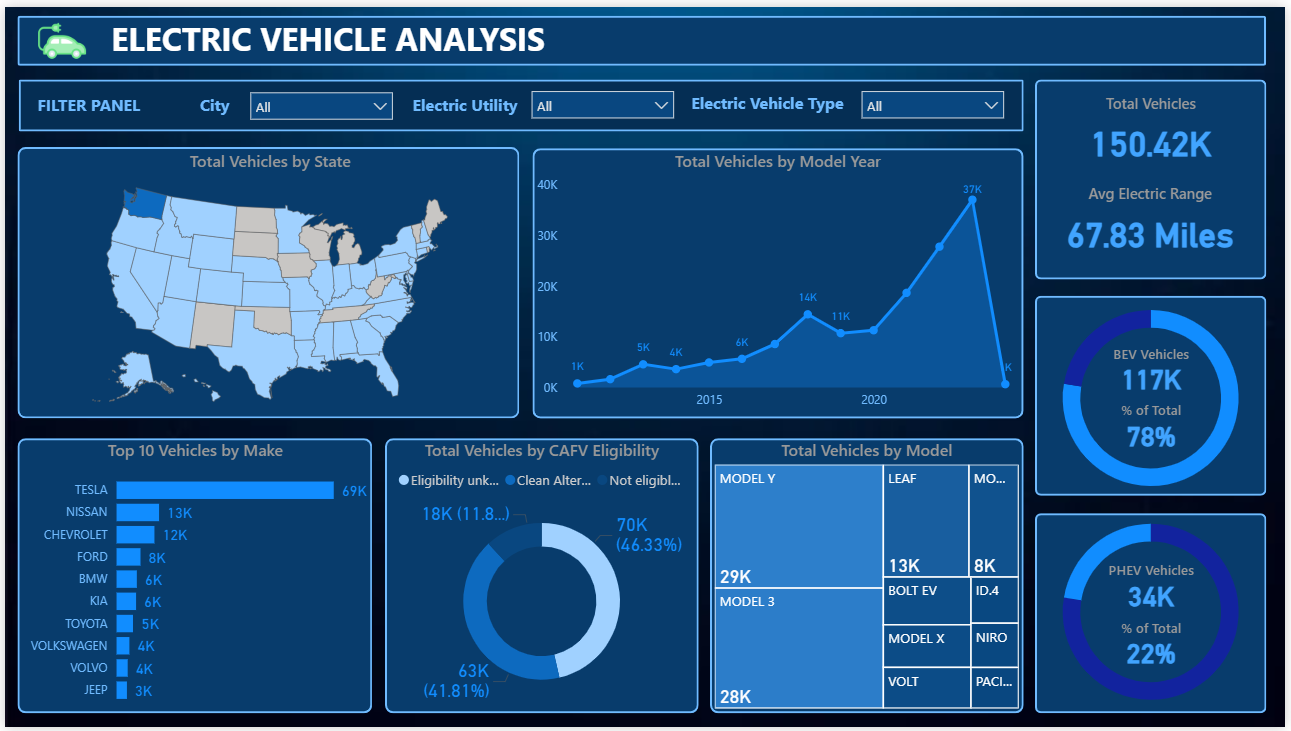

Layout of this report page (visuals, bound fields, positions):
{"tool":"powerbi","page":{"name":"Page 1","canvas":[1280,720],"ordinal":0},"visuals":[{"type":"shape","box":[12.9,8.6,1248.6,50],"z":0},{"type":"textbox","box":[101.3,4.8,450,57.9],"z":1000},{"type":"shape","box":[1030,72.9,231.4,200],"z":2000},{"type":"card","title":"Total Vehicles","fields":{"Values":["Electric_Vehicle_Population_Data.Total Vehicles"]},"box":[1058.6,85.7,174.3,77.1],"z":3000},{"type":"card","title":"Avg Electric Range","fields":{"Values":["Electric_Vehicle_Population_Data.Avg Range"]},"box":[1054.3,175.7,182.9,78.6],"z":4000},{"type":"shape","box":[1030,505.7,231.4,200],"z":5000},{"type":"shape","box":[1030,288.6,231.4,200],"z":6000},{"type":"donutChart","fields":{"Category":["Electric_Vehicle_Population_Data.Electric Vehicle Type"],"Y":["Electric_Vehicle_Population_Data.Total Vehicles"]},"box":[1018.6,275.7,254.3,230],"z":7000},{"type":"card","title":"BEV Vehicles","fields":{"Values":["Electric_Vehicle_Population_Data.BEV Vehicle"]},"box":[1085.7,337.1,120,51.4],"z":8000},{"type":"card","title":"% of Total","fields":{"Values":["Electric_Vehicle_Population_Data.% of BEV"]},"box":[1085.7,394.3,120,51.4],"z":9000},{"type":"donutChart","fields":{"Category":["Electric_Vehicle_Population_Data.Electric Vehicle Type"],"Y":["Electric_Vehicle_Population_Data.Total Vehicles"]},"box":[1018.6,490,254.3,230],"z":10000},{"type":"card","title":"PHEV Vehicles","fields":{"Values":["Electric_Vehicle_Population_Data.PHEV Vehicle"]},"box":[1085.7,554.3,120,51.4],"z":11000},{"type":"card","title":"% of Total","fields":{"Values":["Electric_Vehicle_Population_Data.% of PHEV"]},"box":[1085.7,611.4,120,51.4],"z":12000},{"type":"shape","box":[13.3,72.4,1005,51.9],"z":13000},{"type":"shape","box":[527.2,141.2,491,270.2],"z":14000},{"type":"areaChart","fields":{"Category":["Electric_Vehicle_Population_Data.Model Year"],"Y":["Electric_Vehicle_Population_Data.Total Vehicles"]},"box":[527.2,142.4,491,269],"z":15000},{"type":"shape","box":[12.1,139.9,501.9,271.4],"z":16000},{"type":"shapeMap","fields":{"Category":["Electric_Vehicle_Population_Data.State"],"Value":["Electric_Vehicle_Population_Data.Total Vehicles"]},"box":[13.3,142.4,503.1,269],"z":17000},{"type":"shape","box":[12.1,430.7,354.7,275.1],"z":18000},{"type":"barChart","title":"Top 10 Vehicles by Make","fields":{"Category":["Electric_Vehicle_Population_Data.Make"],"Y":["Electric_Vehicle_Population_Data.Total Vehicles"]},"box":[13.3,430.7,353.5,275.1],"z":19000},{"type":"shape","box":[380,430.7,313.7,275.1],"z":20000},{"type":"donutChart","title":"Total Vehicles by CAFV Eligibility","fields":{"Category":["Electric_Vehicle_Population_Data.Clean Alternative Fuel Vehicle (CAFV) Eligibility"],"Y":["Electric_Vehicle_Population_Data.Total Vehicles"]},"box":[380,430.7,313.7,275.1],"z":21000},{"type":"shape","box":[704.6,430.7,313.7,275.1],"z":22000},{"type":"treemap","fields":{"Group":["Electric_Vehicle_Population_Data.Model"],"Values":["Electric_Vehicle_Population_Data.Total Vehicles"]},"box":[704.6,430.7,313.7,275.1],"z":23000},{"type":"textbox","box":[27.7,80.8,147.2,36.2],"z":24000},{"type":"slicer","fields":{"Values":["Electric_Vehicle_Population_Data.City"]},"box":[235,74.8,162.9,47.1],"z":25000},{"type":"textbox","box":[190.6,80.8,45.8,36.2],"z":26000},{"type":"slicer","fields":{"Values":["Electric_Vehicle_Population_Data.Electric Utility"]},"box":[516.4,73.6,162.9,47.1],"z":27000},{"type":"textbox","box":[403,80.8,124.3,36.2],"z":28000},{"type":"slicer","fields":{"Values":["Electric_Vehicle_Population_Data.Electric Vehicle Type"]},"box":[845.7,73.6,162.9,47.1],"z":29000},{"type":"textbox","box":[681.6,79.6,182.2,36.2],"z":30000},{"type":"image","box":[27.7,4.8,59.1,57.9],"z":31000}]}

Visuals, with their boxes in screenshot pixels (x1, y1, x2, y2), scaled from the page's 1280x720 canvas onto the 1291x731 screenshot:
shape: region(13, 9, 1272, 59)
textbox: region(102, 5, 556, 64)
shape: region(1039, 74, 1272, 277)
"Total Vehicles" card: region(1068, 87, 1243, 165)
"Avg Electric Range" card: region(1063, 178, 1248, 258)
shape: region(1039, 513, 1272, 716)
shape: region(1039, 293, 1272, 496)
donutChart - Electric_Vehicle_Population_Data.Electric Vehicle Type x Electric_Vehicle_Population_Data.Total Vehicles: region(1027, 280, 1284, 513)
"BEV Vehicles" card: region(1095, 342, 1216, 394)
"% of Total" card: region(1095, 400, 1216, 453)
donutChart - Electric_Vehicle_Population_Data.Electric Vehicle Type x Electric_Vehicle_Population_Data.Total Vehicles: region(1027, 497, 1284, 730)
"PHEV Vehicles" card: region(1095, 563, 1216, 615)
"% of Total" card: region(1095, 621, 1216, 673)
shape: region(13, 74, 1027, 126)
shape: region(532, 143, 1027, 418)
areaChart - Electric_Vehicle_Population_Data.Model Year x Electric_Vehicle_Population_Data.Total Vehicles: region(532, 145, 1027, 418)
shape: region(12, 142, 518, 418)
shapeMap - Electric_Vehicle_Population_Data.State x Electric_Vehicle_Population_Data.Total Vehicles: region(13, 145, 521, 418)
shape: region(12, 437, 370, 717)
"Top 10 Vehicles by Make" barChart: region(13, 437, 370, 717)
shape: region(383, 437, 700, 717)
"Total Vehicles by CAFV Eligibility" donutChart: region(383, 437, 700, 717)
shape: region(711, 437, 1027, 717)
treemap - Electric_Vehicle_Population_Data.Model x Electric_Vehicle_Population_Data.Total Vehicles: region(711, 437, 1027, 717)
textbox: region(28, 82, 176, 119)
slicer - Electric_Vehicle_Population_Data.City: region(237, 76, 401, 124)
textbox: region(192, 82, 238, 119)
slicer - Electric_Vehicle_Population_Data.Electric Utility: region(521, 75, 685, 123)
textbox: region(406, 82, 532, 119)
slicer - Electric_Vehicle_Population_Data.Electric Vehicle Type: region(853, 75, 1017, 123)
textbox: region(687, 81, 871, 118)
image: region(28, 5, 88, 64)
